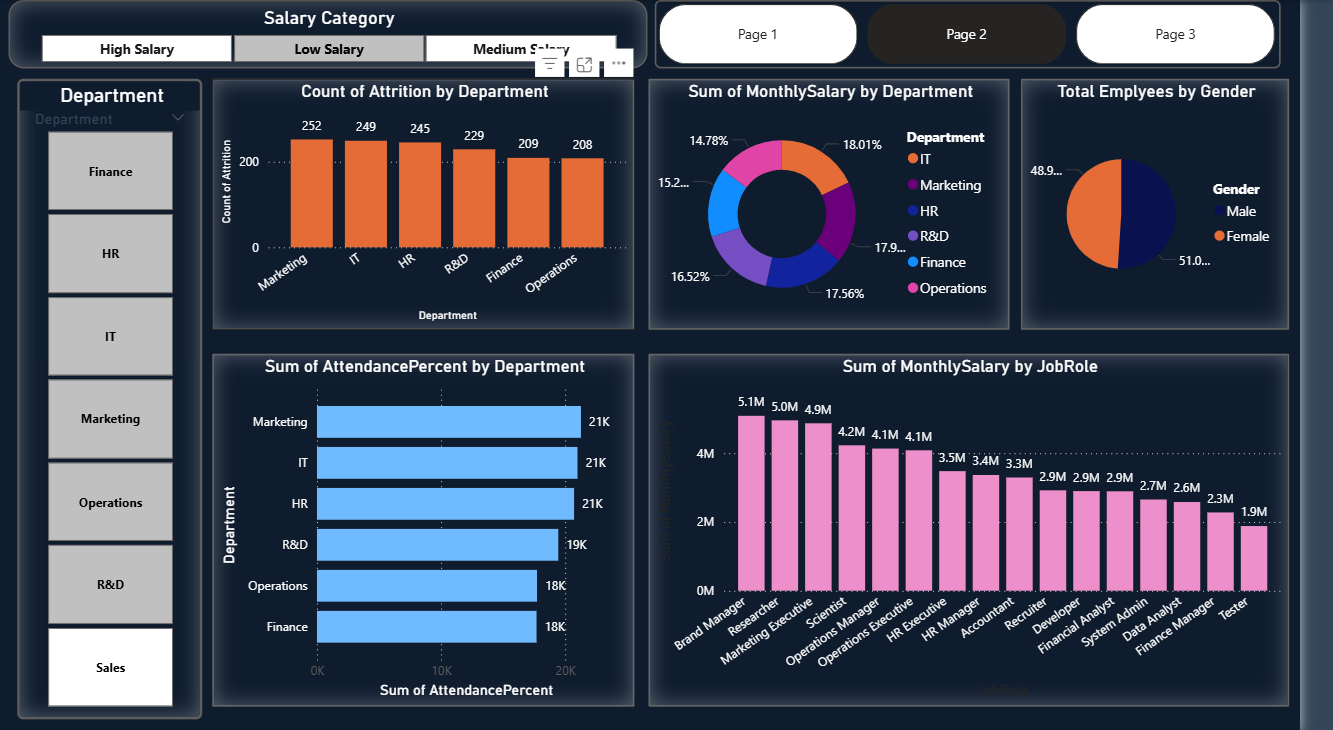

This screenshot's page, from the dashboard's own definition file:
{"tool":"powerbi","page":{"name":"Page 2","canvas":[1280,720],"ordinal":1},"visuals":[{"type":"slicer","title":"Salary Category","fields":{"Values":["Employee_Data.Salary Category"]},"box":[12.9,0,627.1,67.1],"z":0},{"type":"donutChart","fields":{"Y":["Sum(Employee_Data.MonthlySalary)"],"Category":["Employee_Data.Department"]},"box":[640,77.9,354.8,246.3],"z":1000},{"type":"clusteredBarChart","fields":{"Category":["Employee_Data.Department"],"Y":["Sum(Employee_Data.AttendancePercent)"]},"box":[212.9,347.8,414.6,346.4],"z":2000},{"type":"slicer","title":"Department","fields":{"Values":["Employee_Data.Department"]},"box":[21.2,77.5,181.2,628.8],"z":3000},{"type":"clusteredColumnChart","fields":{"Y":["CountNonNull(Employee_Data.Attrition)"],"Category":["Employee_Data.Department"]},"box":[212.9,77.9,414.6,246.3],"z":4000},{"type":"clusteredColumnChart","fields":{"Category":["Employee_Data.JobRole"],"Y":["Sum(Employee_Data.MonthlySalary)"]},"box":[640,347.8,628.9,346.4],"z":5000},{"type":"pieChart","fields":{"Category":["Employee_Data.Gender"],"Y":["Employee_Data.M Total Emplyees"]},"box":[1005.9,77.9,263,246.3],"z":6000},{"type":"pageNavigator","box":[647.1,0,614.3,67.1],"z":7000}]}

Visuals, with their boxes in screenshot pixels (x1, y1, x2, y2), scaled from the page's 1280x720 canvas onto the 1333x730 screenshot:
"Salary Category" slicer: bbox(13, 0, 666, 68)
donutChart - Sum(Employee_Data.MonthlySalary) x Employee_Data.Department: bbox(666, 79, 1036, 329)
clusteredBarChart - Employee_Data.Department x Sum(Employee_Data.AttendancePercent): bbox(222, 353, 653, 704)
"Department" slicer: bbox(22, 79, 211, 716)
clusteredColumnChart - CountNonNull(Employee_Data.Attrition) x Employee_Data.Department: bbox(222, 79, 653, 329)
clusteredColumnChart - Employee_Data.JobRole x Sum(Employee_Data.MonthlySalary): bbox(666, 353, 1321, 704)
pieChart - Employee_Data.Gender x Employee_Data.M Total Emplyees: bbox(1048, 79, 1321, 329)
pageNavigator: bbox(674, 0, 1314, 68)
